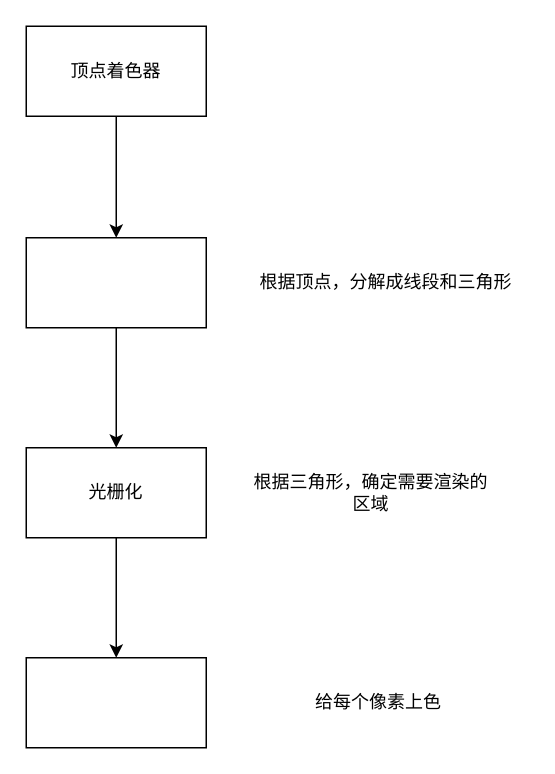
This 555x774 diagram has some shape labels left out. Each missing label, with the box of its shape:
图元装配: (25, 236, 206, 328)
片断着色器: (25, 656, 206, 748)
